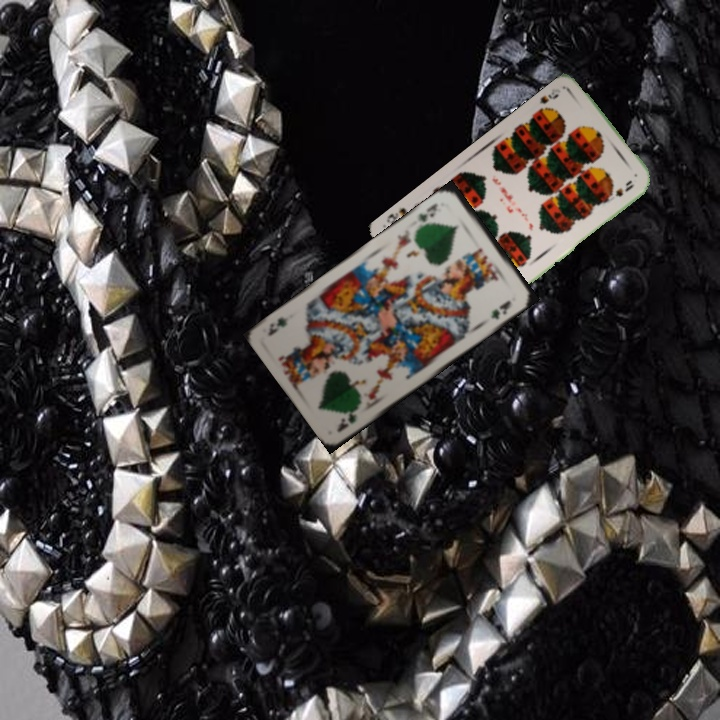GK: (333, 403, 362, 435), (413, 199, 440, 225)
S9: (533, 84, 563, 116)
